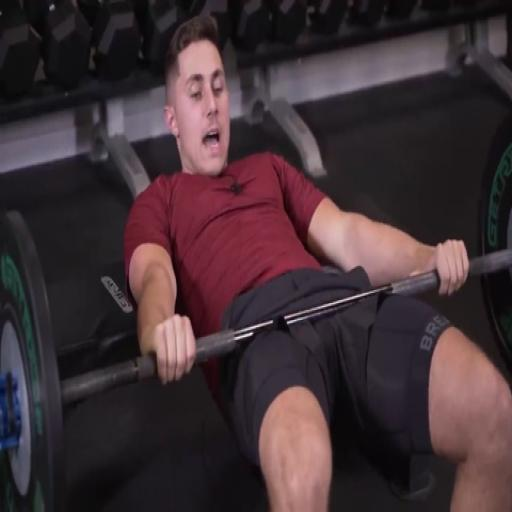exercise: (120, 12, 511, 510)
